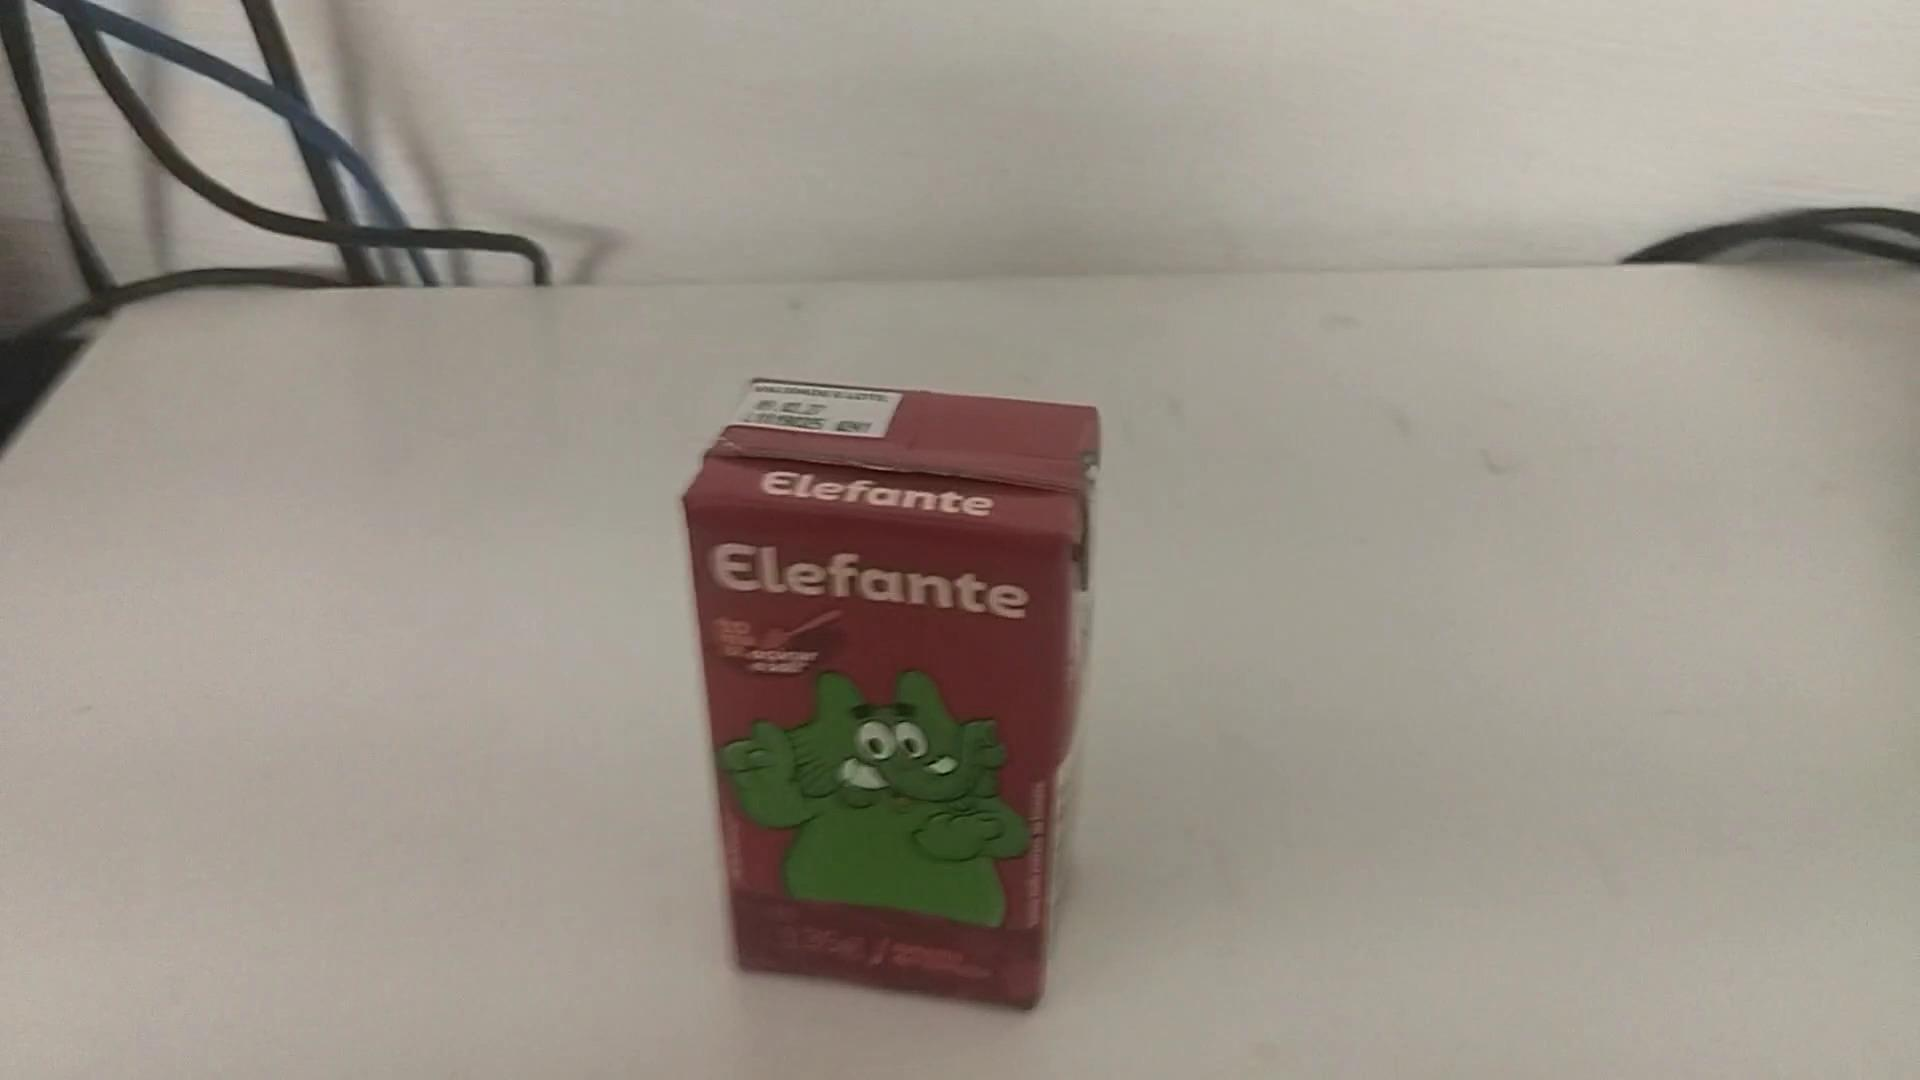tomate: (673, 380, 1105, 1017)
